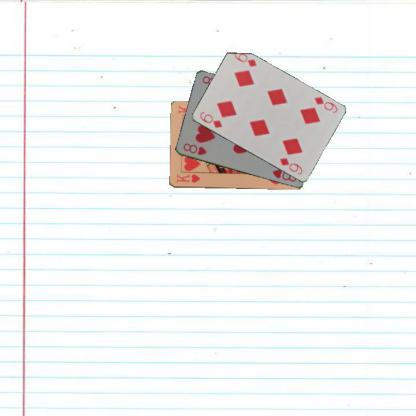6d: (196, 109, 223, 130), (312, 94, 339, 115)
8h: (180, 140, 208, 156)
Kh: (174, 172, 201, 184)
